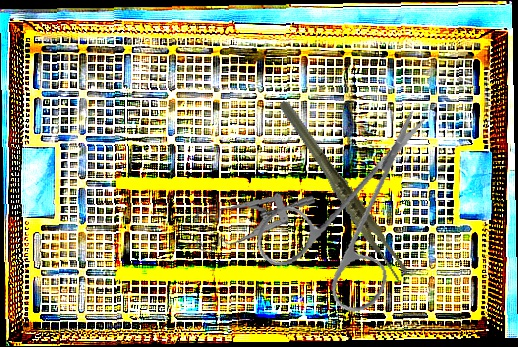Iris Scissors: (236, 108, 461, 329)
Speculum: (189, 182, 317, 265)
Tissue Forceps: (277, 82, 411, 299)
